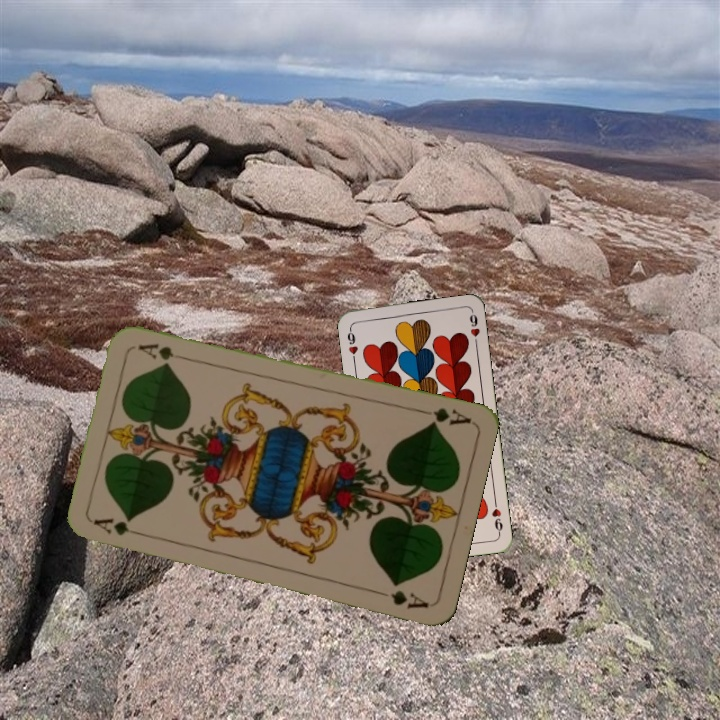GA: (414, 404, 473, 429), (90, 514, 149, 539)
H9: (488, 496, 505, 536), (343, 324, 360, 364)
